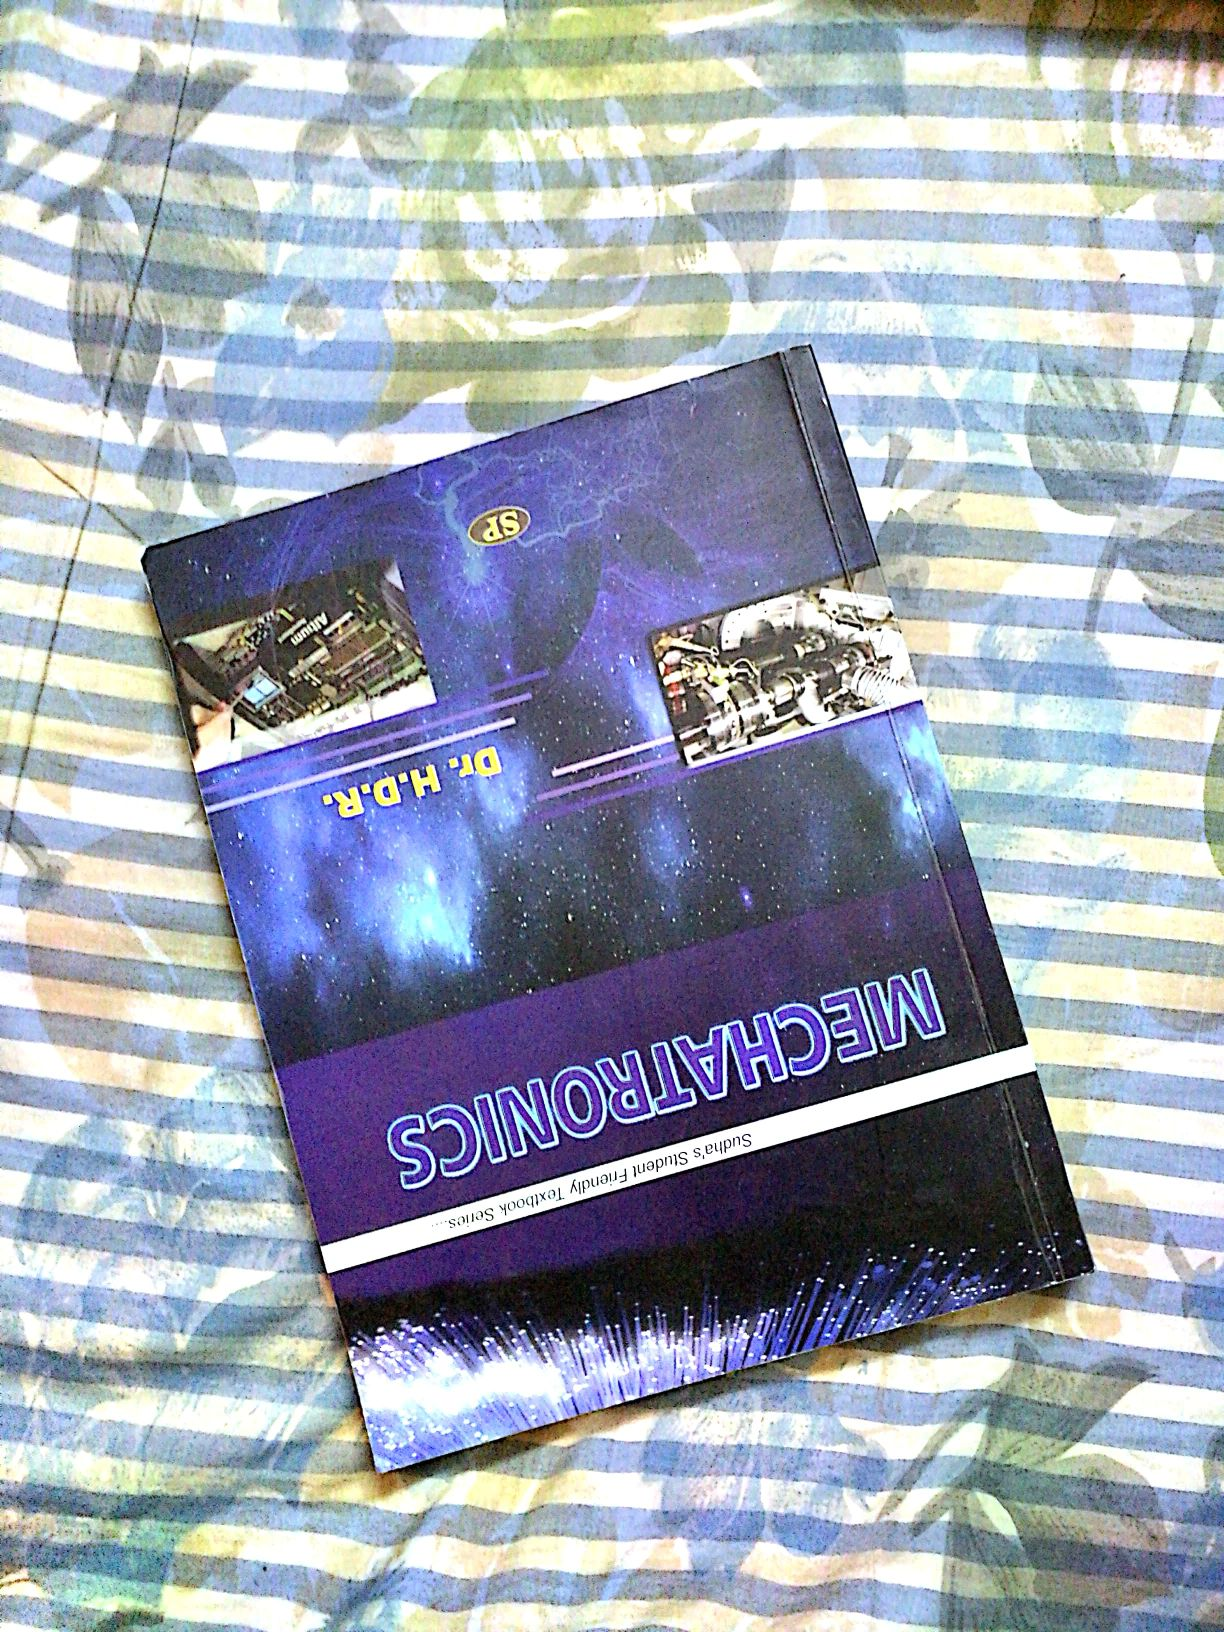mechatronics: (109, 312, 1092, 1446)
